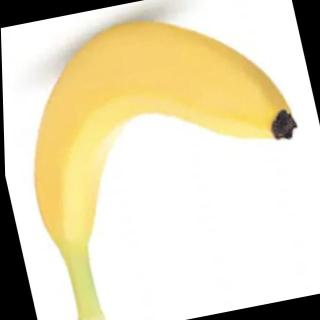banana: (0, 0, 318, 254)
